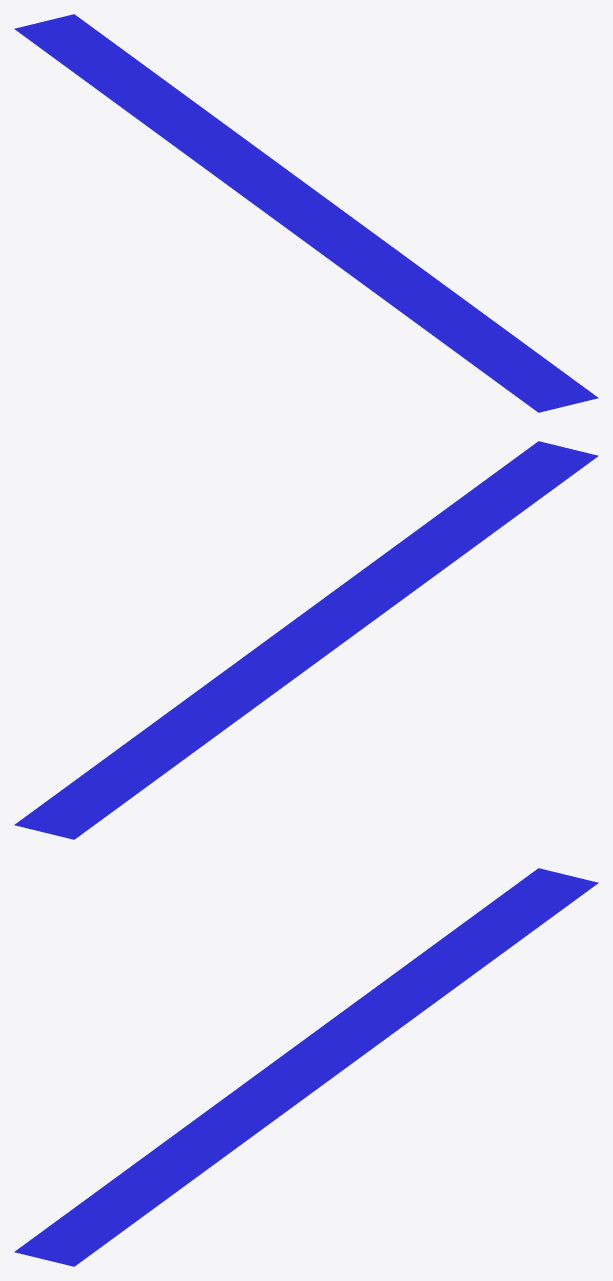
File: Floor.fbx
3 renders of one model, top to bottom at view 1: azimuth 30°, elevation 25°; view 2: azimuth 150°, elevation 25°; view 3: azimuth 330°, elevation 25°, orthographic.
Parts seen in each view (by area): view 1: pPlane1; view 2: pPlane1; view 3: pPlane1.
Boxes of the visible parts, x1,y1,x2,y2 form: pPlane1: (14,14,598,412); pPlane1: (14,441,598,839); pPlane1: (14,868,598,1266).
Bounding box in the file's own units: 3.87 × 2.22e-16 × 58.29.
